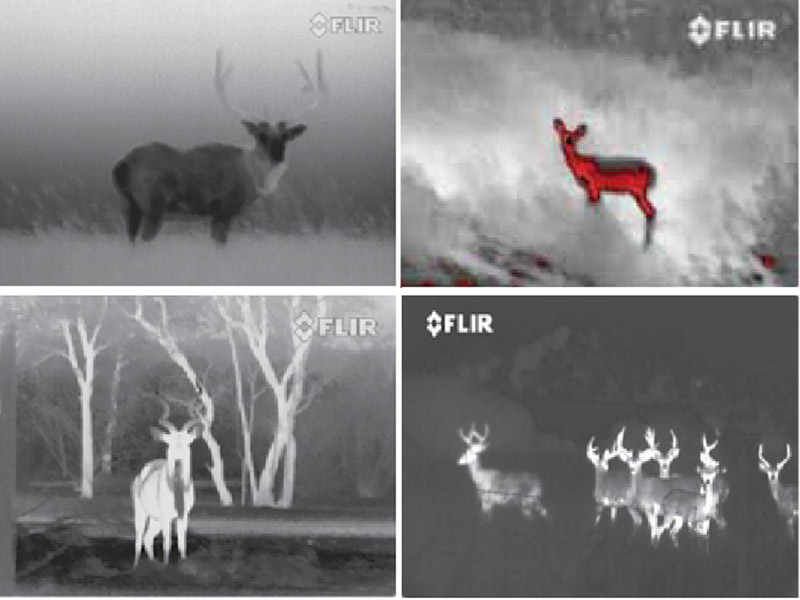cervo: (97, 48, 346, 237), (548, 117, 670, 249), (122, 395, 198, 562), (452, 425, 551, 530), (744, 435, 800, 542), (575, 439, 630, 522), (640, 426, 685, 491), (691, 463, 727, 537)
